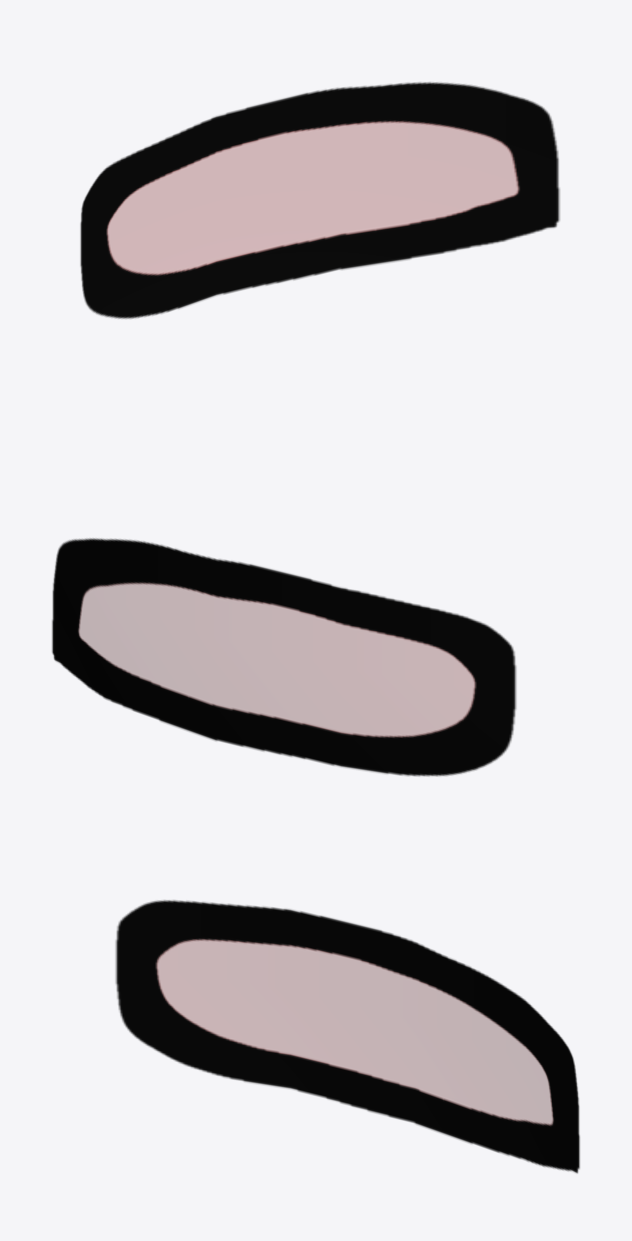
The model's file is 09-Silly-derpy-face-mouth.glb.
3 renders of one model, top to bottom at view 1: azimuth 30°, elevation 25°; view 2: azimuth 150°, elevation 25°; view 3: azimuth 330°, elevation 25°, orthographic.
Visible parts, largest first — view 1: 09-Silly-derpy-face-mouth; view 2: 09-Silly-derpy-face-mouth; view 3: 09-Silly-derpy-face-mouth.
Part boxes in pixels (box(x1,y1,x2,y2)): 09-Silly-derpy-face-mouth: box(80, 82, 559, 318); 09-Silly-derpy-face-mouth: box(52, 538, 516, 776); 09-Silly-derpy-face-mouth: box(115, 900, 579, 1173).
Bounding box in the file's own units: 0.5306 × 0.2025 × 0.0565.
Materials: 1 (1 with a texture image).
